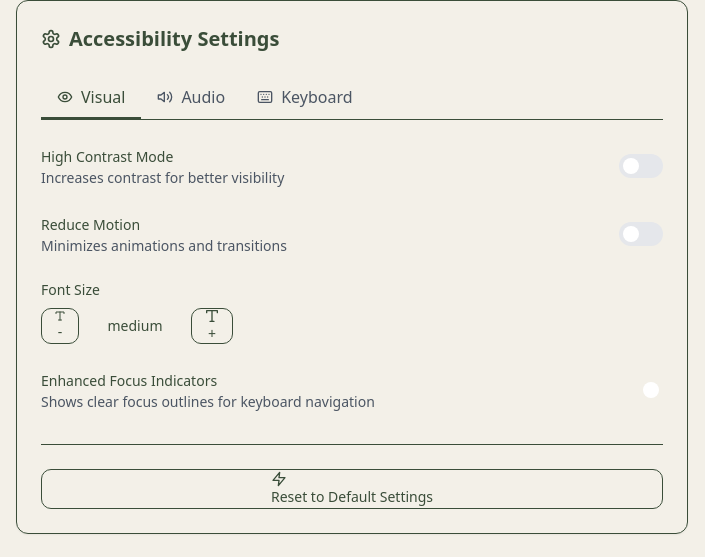
it: AccessibilitySettings › handles keyboard shortcuts help section
The width and height of the screenshot is (705, 557).
// Navigate to keyboard tab
Click the tab "Keyboard": (305, 98) [241,77,369,119]
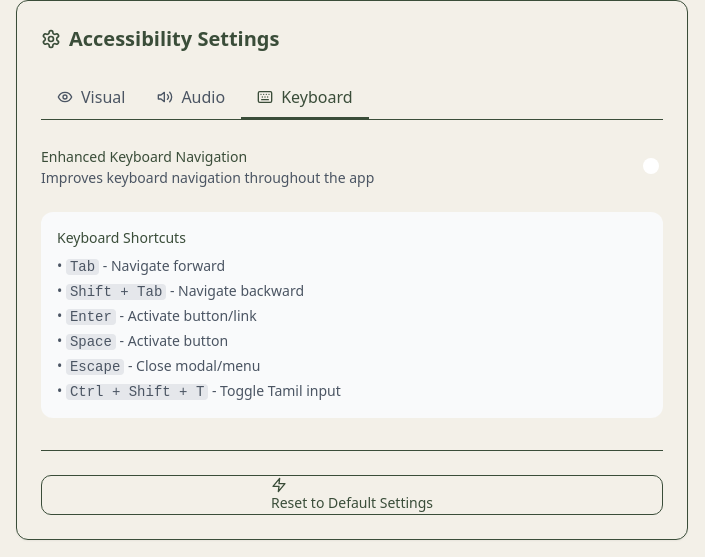
Now the heading "Keyboard Shortcuts" is shown, box [57,228,186,247]
Now the text "• Tab - Navigate forward" is shown, box [57,256,225,275]
Now the text "• Enter - Activate button/link" is shown, box [57,306,257,325]
